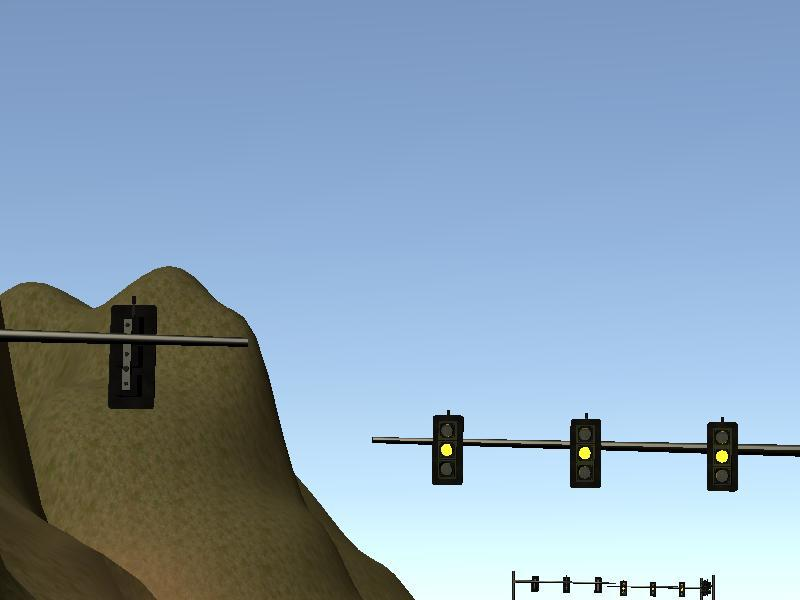Yellow: (705, 422, 737, 491), (570, 419, 602, 488), (432, 414, 463, 485)
